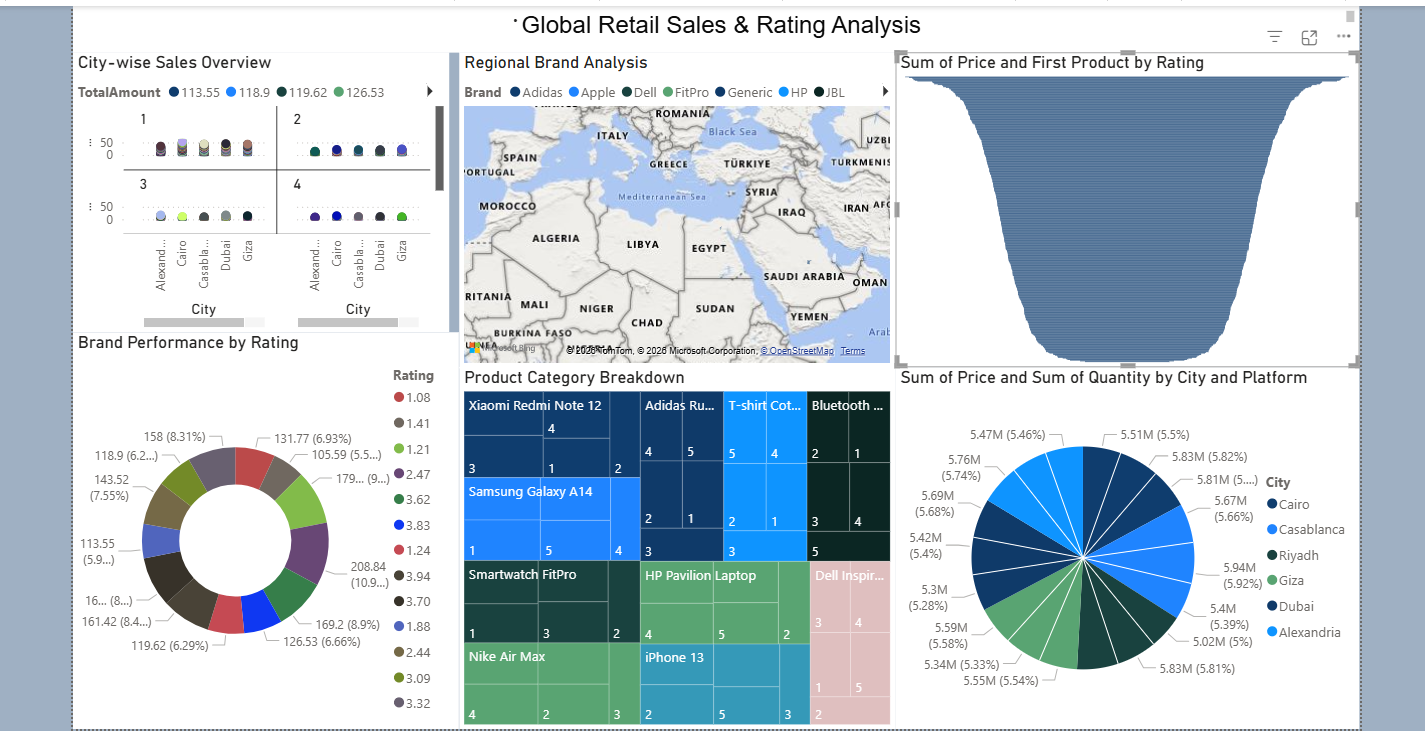

The dashboard page shown, as its layout file describes it:
{"tool":"powerbi","page":{"name":"Page 1","canvas":[1280,720],"ordinal":0},"visuals":[{"type":"stackedAreaChart","title":"\tCity-wise Sales Overview","fields":{"Category":["ecommerce_10000.City"],"Y":["CountNonNull(ecommerce_10000.Brand)"],"Series":["ecommerce_10000.TotalAmount"],"Rows":["ecommerce_10000.Quantity"]},"box":[0,46,374.4,278.6],"z":0},{"type":"donutChart","title":"\tBrand Performance by Rating","fields":{"Y":["Sum(ecommerce_10000.Price)"],"Series":["ecommerce_10000.TotalAmount"],"Category":["ecommerce_10000.Rating"]},"box":[0,324.7,384.4,395.6],"z":1000},{"type":"filledMap","title":"Regional Brand Analysis","fields":{"Category":["ecommerce_10000.City"],"Series":["ecommerce_10000.Brand"],"Y":["Avg(ecommerce_10000.TotalAmount)"]},"box":[384.4,46,434.1,313.5],"z":2000},{"type":"treemap","title":"\tProduct Category Breakdown","fields":{"Group":["ecommerce_10000.Product"],"Details":["ecommerce_10000.Quantity"],"Values":["Sum(ecommerce_10000.Price)"]},"box":[384.4,359.5,434.1,360.7],"z":3000},{"type":"funnel","fields":{"Y":["Sum(ecommerce_10000.Price)"],"Category":["ecommerce_10000.Rating"]},"box":[818.5,46,461.5,313.5],"z":4000},{"type":"pieChart","fields":{"Category":["ecommerce_10000.City"],"Y":["Sum(ecommerce_10000.Price)"],"Series":["ecommerce_10000.Platform"]},"box":[818.5,359.5,461.5,360.7],"z":5000},{"type":"textbox","box":[0,0,1280,46],"z":6000}]}

Visuals, with their boxes in screenshot pixels (x1, y1, x2, y2):
"	City-wise Sales Overview" stackedAreaChart: [x1=71, y1=68, x2=445, y2=347]
"	Brand Performance by Rating" donutChart: [x1=71, y1=347, x2=455, y2=730]
"Regional Brand Analysis" filledMap: [x1=455, y1=68, x2=890, y2=382]
"	Product Category Breakdown" treemap: [x1=455, y1=382, x2=890, y2=730]
funnel - Sum(ecommerce_10000.Price) x ecommerce_10000.Rating: [x1=890, y1=68, x2=1352, y2=382]
pieChart - ecommerce_10000.City x Sum(ecommerce_10000.Price): [x1=890, y1=382, x2=1352, y2=730]
textbox: [x1=71, y1=22, x2=1352, y2=68]
